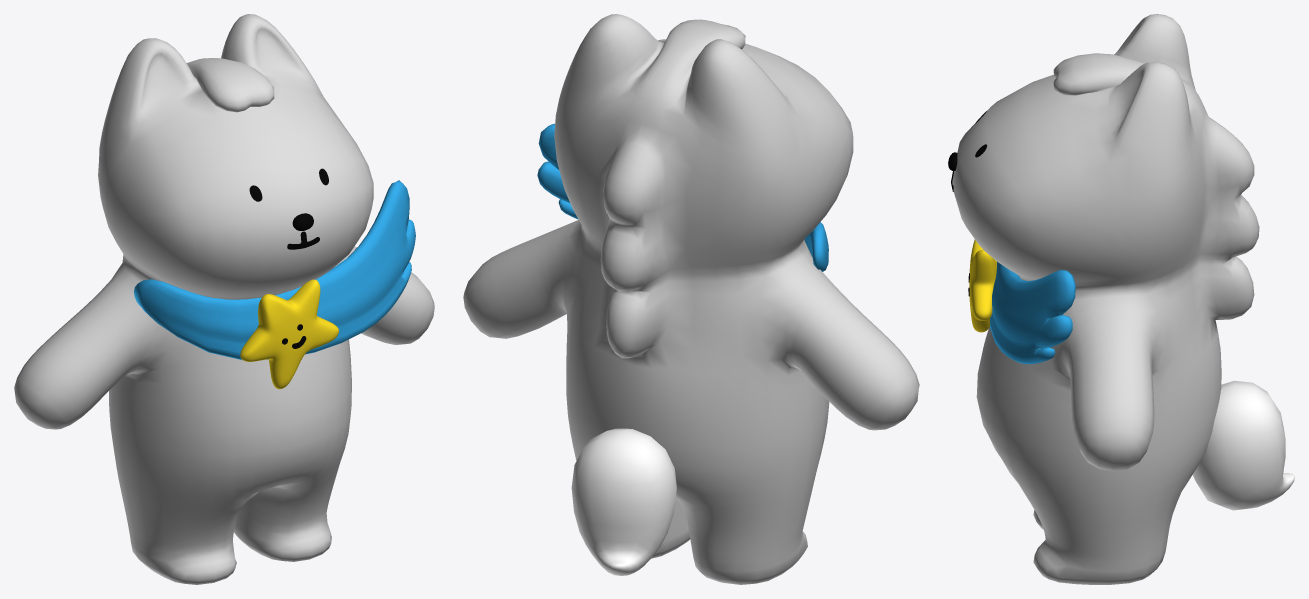
File: jj_basic.glb
3 views of the same model, side by side, from view 1: azimuth 30°, elevation 25°; view 2: azimuth 150°, elevation 25°; view 3: azimuth 270°, elevation 25° (orthographic). The views are drawn at different scales.
Visible parts, largest first — view 1: Cube.004, Plane.014, Plane.012; view 2: Cube.004, Cube.012, Plane.014; view 3: Cube.004, Cube.012, Plane.014, Plane.012.
Part boxes in pixels (x1=…): Cube.004: x1=14, y1=14, x2=434, y2=584; Plane.014: x1=134, y1=180, x2=415, y2=360; Plane.012: x1=240, y1=279, x2=338, y2=389; Cube.004: x1=463, y1=14, x2=919, y2=584; Cube.012: x1=571, y1=428, x2=676, y2=575; Plane.014: x1=537, y1=123, x2=828, y2=271; Cube.004: x1=952, y1=14, x2=1259, y2=584; Cube.012: x1=1192, y1=380, x2=1294, y2=510; Plane.014: x1=990, y1=261, x2=1075, y2=364; Plane.012: x1=969, y1=239, x2=996, y2=332.
Bounding box in the file's own units: 3.97 × 4.68 × 2.89.
